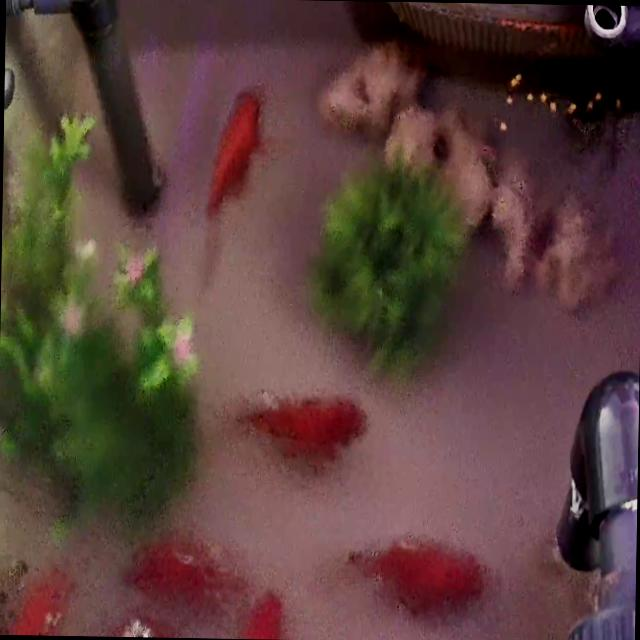fish: (348, 536, 478, 616), (124, 536, 245, 611), (236, 391, 362, 463), (204, 86, 264, 221), (0, 564, 75, 635), (218, 588, 284, 640), (90, 610, 173, 638)
